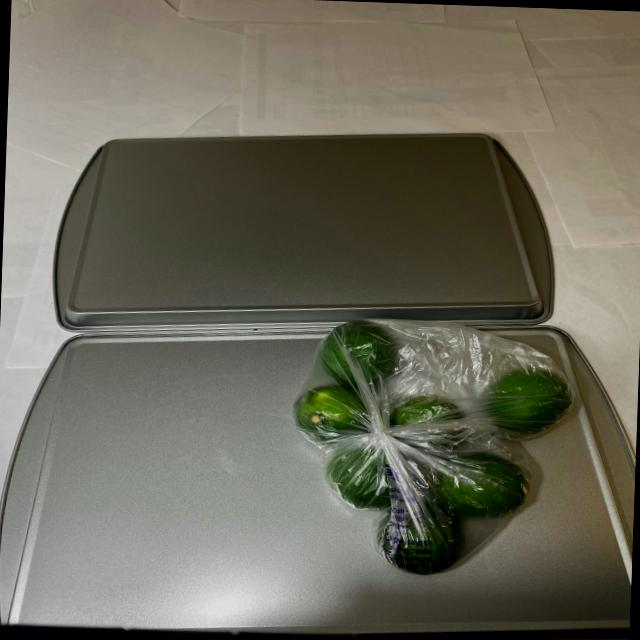lemon: (284, 316, 574, 572)
